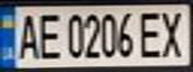0: (63, 9, 84, 60), (100, 9, 121, 58)
2: (81, 9, 103, 60)
6: (115, 9, 139, 60)
A: (12, 9, 42, 61)
E: (136, 7, 166, 60), (33, 9, 63, 61)
X: (157, 7, 190, 58)
